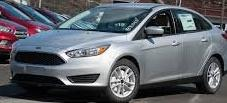Cars: (12, 5, 227, 103)
